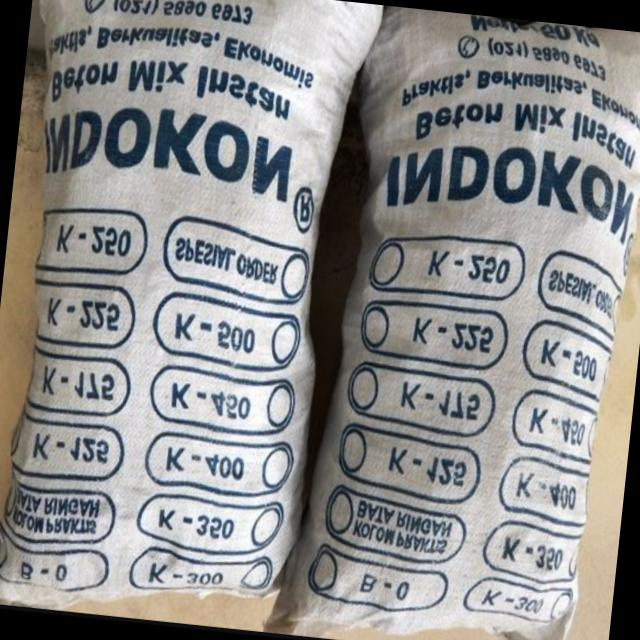KantongSemen: (0, 0, 386, 637), (261, 0, 640, 640)
